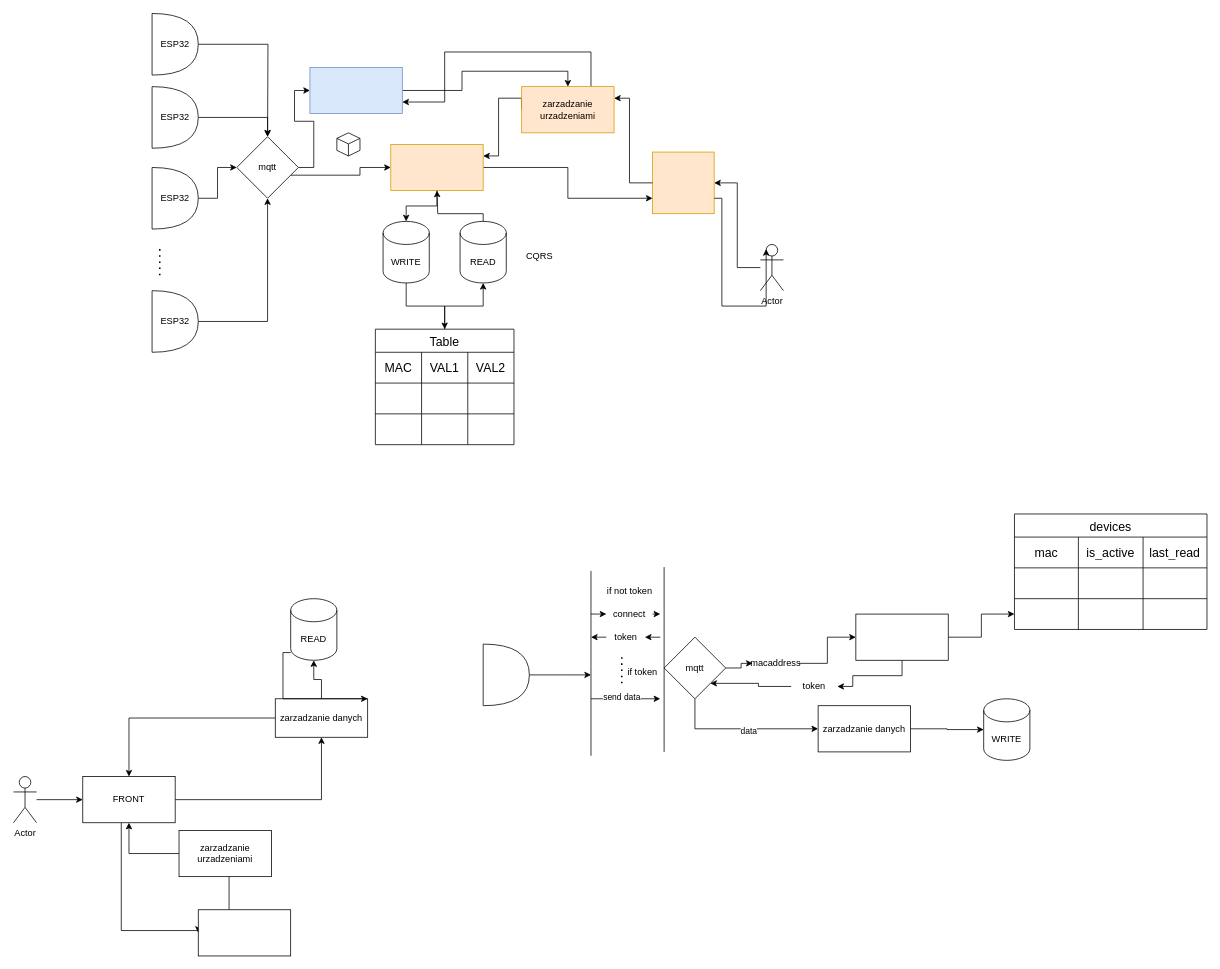
The diagram is 1220 pixels wide and 969 high, and some of its shapes have lost their labels. The centre of each missing label's shape, as x and y in pixels:
auth: (244,932)
auth uzytkownicy: (683,182)
auth-esp: (355,90)
esp: (505,674)
esp auth: (901,636)
zarzadzanie danymi: (436,167)
